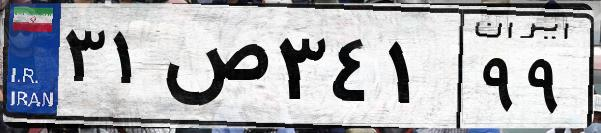1: (385, 28, 445, 110), (110, 28, 158, 98)
3: (270, 28, 330, 110), (57, 26, 110, 100)
4: (330, 28, 385, 110)
9: (475, 38, 525, 113), (525, 38, 570, 115)
ص: (158, 20, 270, 120)
